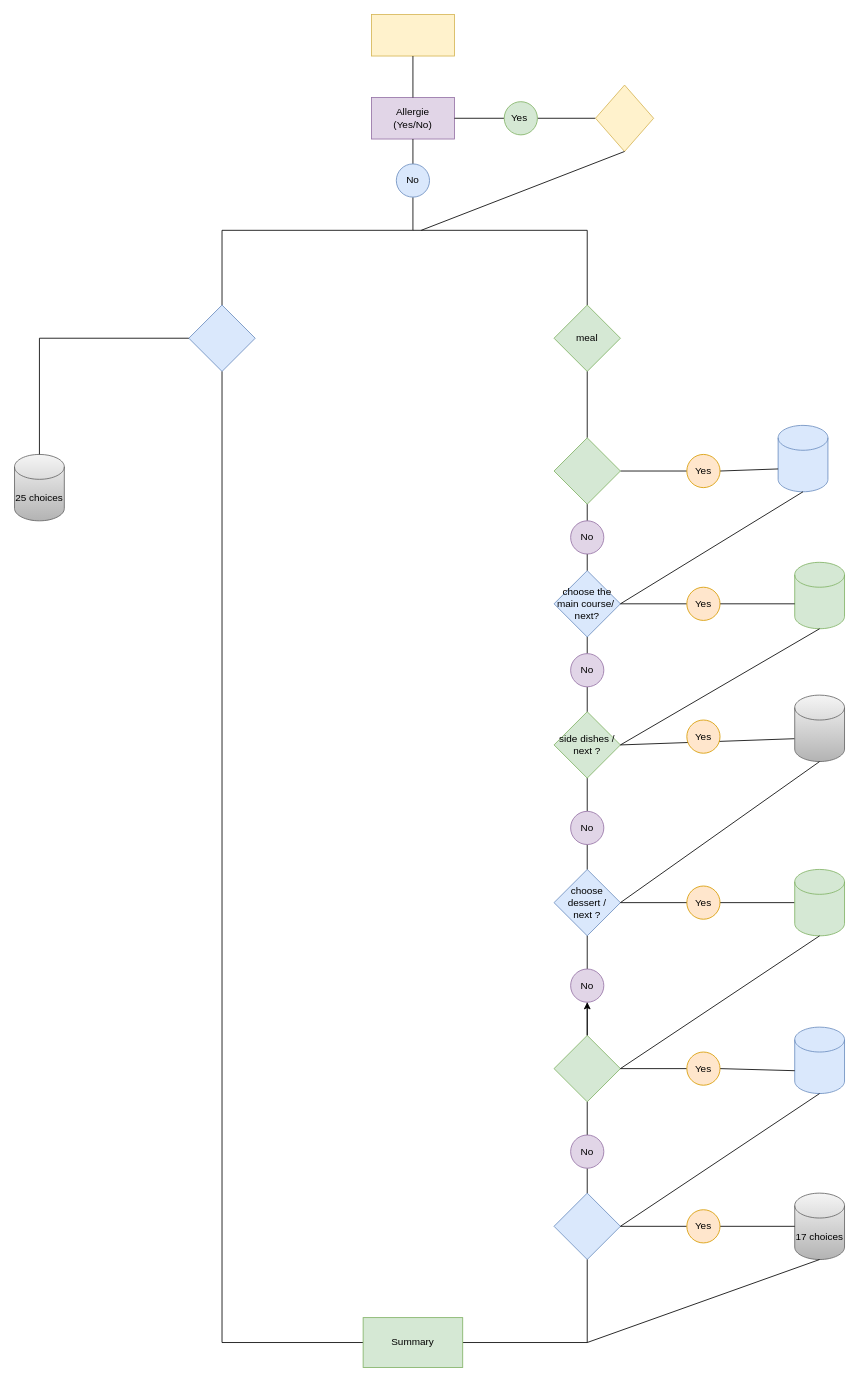
Image size: 859x1382. Some labels were removed from this diagram. The shapes that lost their labels are listed below. From the top down, each one's centre as x and y in pixels, then its label:
At (x=412, y=35): "Start".
At (x=624, y=117): "List of allergen".
At (x=221, y=337): "snack".
At (x=586, y=470): "choose entrees/ next?".
At (x=802, y=458): "8 choices".
At (x=819, y=595): "9 choices".
At (x=819, y=728): "7 choices".
At (x=819, y=902): "18 choices".
At (x=586, y=1068): "choose type of bread/ next ?".
At (x=819, y=1060): "2 choices".
At (x=586, y=1226): "choose supplement/ next ?".
